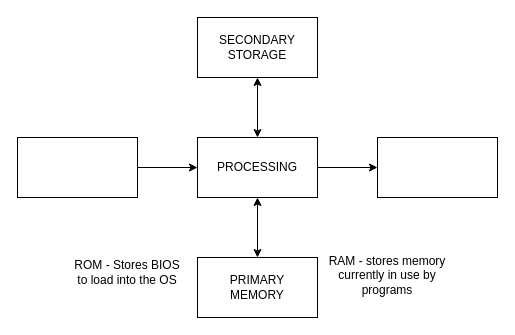
This 515x335 diagram has some shape labels left out. Each missing label, with the centre of its shape:
INPUT: the point at 77,167
OUTPUT: the point at 437,167
